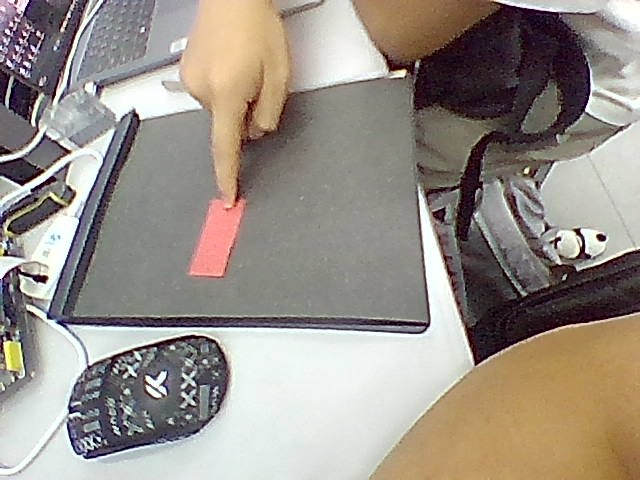card: (188, 199, 244, 276)
